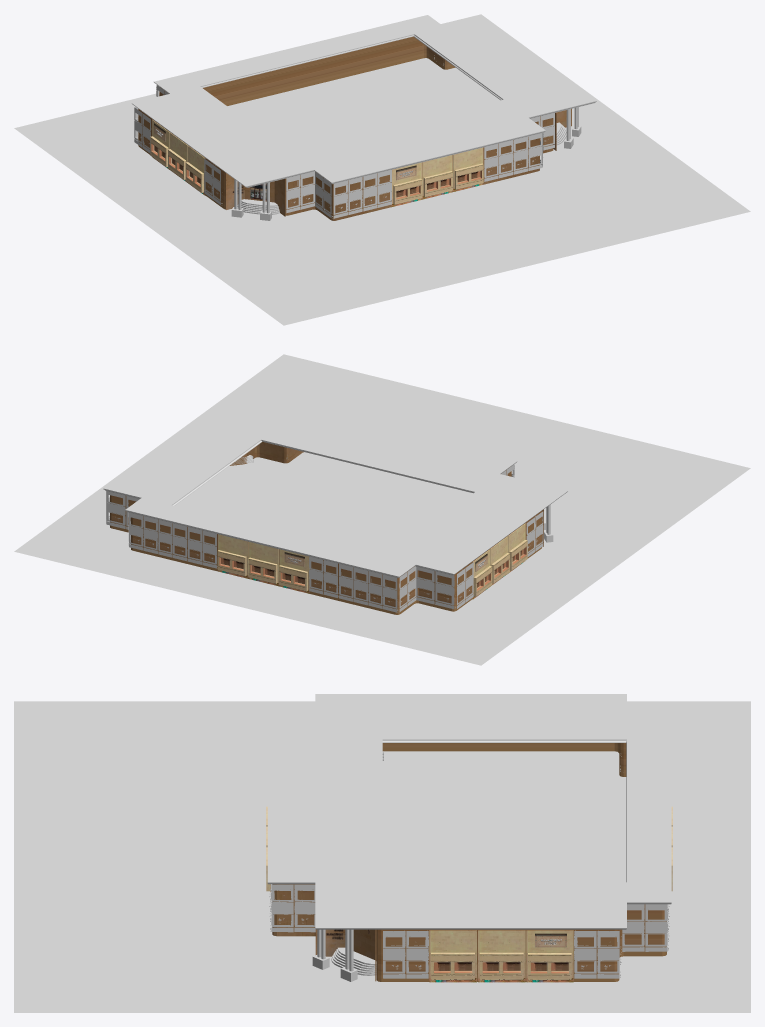
The model's file is DOMS1.fbx.
3 views of the same model, one above another, from view 1: azimuth 30°, elevation 25°; view 2: azimuth 150°, elevation 25°; view 3: azimuth 270°, elevation 25° (orthographic). The views are drawn at different scales.
Visible parts, largest first — view 1: Plane.002, Plane.001, Plane, Screenshot 2025-03-31 011104.001, Screenshot 2025-03-31 011104.002, Screenshot 2025-03-31 011104, Screenshot 2025-03-31 011104.011, Screenshot 2025-03-31 011104.010, Screenshot 2025-03-31 011104.009; view 2: Plane.002, Plane.001, Plane, Screenshot 2025-03-31 011104.005, Screenshot 2025-03-31 011104.004, Screenshot 2025-03-31 011104.003, Screenshot 2025-03-31 011104.010, Screenshot 2025-03-31 011104.011, Screenshot 2025-03-31 011104.009, Screenshot 2025-03-31 003801.025; view 3: Plane.002, Plane.001, Plane, Screenshot 2025-03-31 011104.007, Screenshot 2025-03-31 011104.008, Screenshot 2025-03-31 011104.006, Screenshot 2025-03-31 003801.039, Screenshot 2025-03-31 003801.036, Screenshot 2025-03-31 003801.037, Screenshot 2025-03-31 003801.038, Screenshot 2025-03-31 003801.023, Screenshot 2025-03-31 003801.011 (+5 smaller).
Part boxes in pixels (left/top/right/bottom): Plane.002: left=14, top=14, right=750, bottom=325; Plane.001: left=131, top=15, right=596, bottom=187; Plane: left=138, top=36, right=553, bottom=220; Screenshot 2025-03-31 011104.001: left=422, top=155, right=452, bottom=199; Screenshot 2025-03-31 011104.002: left=453, top=147, right=483, bottom=191; Screenshot 2025-03-31 011104: left=391, top=162, right=422, bottom=206; Screenshot 2025-03-31 011104.011: left=185, top=145, right=205, bottom=195; Screenshot 2025-03-31 011104.010: left=168, top=132, right=187, bottom=182; Screenshot 2025-03-31 011104.009: left=150, top=119, right=169, bottom=169; Plane.002: left=14, top=354, right=750, bottom=665; Plane.001: left=103, top=405, right=567, bottom=577; Plane: left=110, top=442, right=542, bottom=614; Screenshot 2025-03-31 011104.005: left=217, top=534, right=248, bottom=578; Screenshot 2025-03-31 011104.004: left=248, top=542, right=278, bottom=585; Screenshot 2025-03-31 011104.003: left=279, top=549, right=309, bottom=593; Screenshot 2025-03-31 011104.010: left=490, top=536, right=509, bottom=586; Screenshot 2025-03-31 011104.011: left=508, top=523, right=527, bottom=573; Screenshot 2025-03-31 011104.009: left=472, top=549, right=492, bottom=599; Screenshot 2025-03-31 003801.025: left=435, top=571, right=455, bottom=609; Plane.002: left=14, top=701, right=750, bottom=1012; Plane.001: left=267, top=694, right=671, bottom=929; Plane: left=272, top=743, right=666, bottom=981; Screenshot 2025-03-31 011104.007: left=478, top=930, right=525, bottom=982; Screenshot 2025-03-31 011104.008: left=429, top=930, right=476, bottom=982; Screenshot 2025-03-31 011104.006: left=526, top=930, right=573, bottom=982; Screenshot 2025-03-31 003801.039: left=406, top=931, right=428, bottom=978; Screenshot 2025-03-31 003801.036: left=597, top=931, right=619, bottom=978; Screenshot 2025-03-31 003801.037: left=574, top=930, right=596, bottom=978; Screenshot 2025-03-31 003801.038: left=383, top=931, right=405, bottom=978; Screenshot 2025-03-31 003801.023: left=645, top=904, right=667, bottom=951; Screenshot 2025-03-31 003801.011: left=271, top=884, right=293, bottom=932.
Size of the model in its own units: 10224 by 852 by 10224.
Materials: 10 (4 with a texture image).
